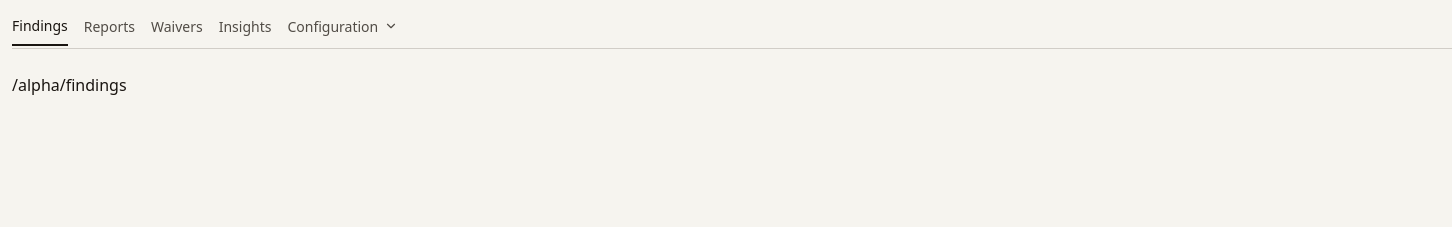
Test case: project navigation › offers settings to admins and navigates when it is chosen
The width and height of the screenshot is (1452, 227).
Click the button "Configuration" at (343, 30), box [287,12,398,48]
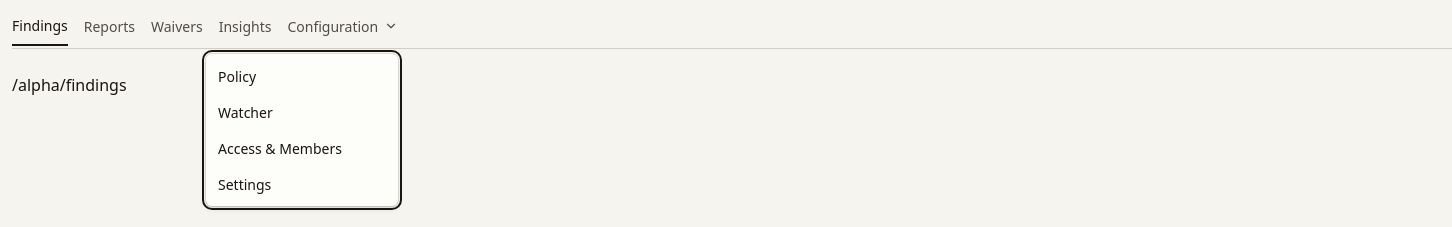
Click the menu item "Settings" at (245, 184), box [218,174,271,194]
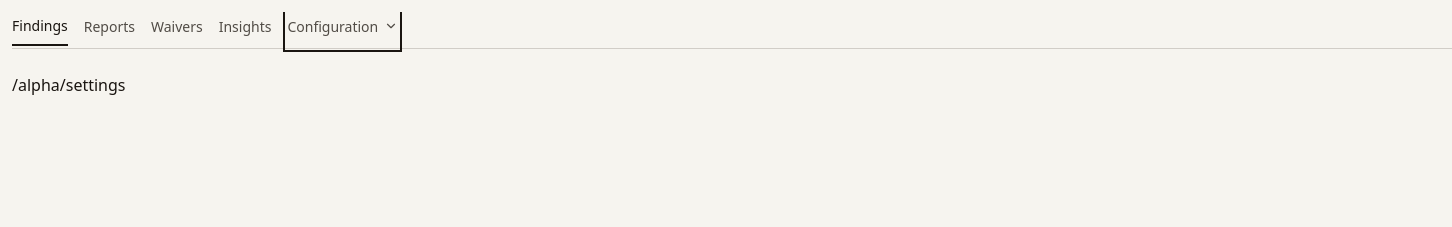
Result: the text with test id "location" reads "/alpha/settings" at [12,74,126,96]
Result: the menu is gone
